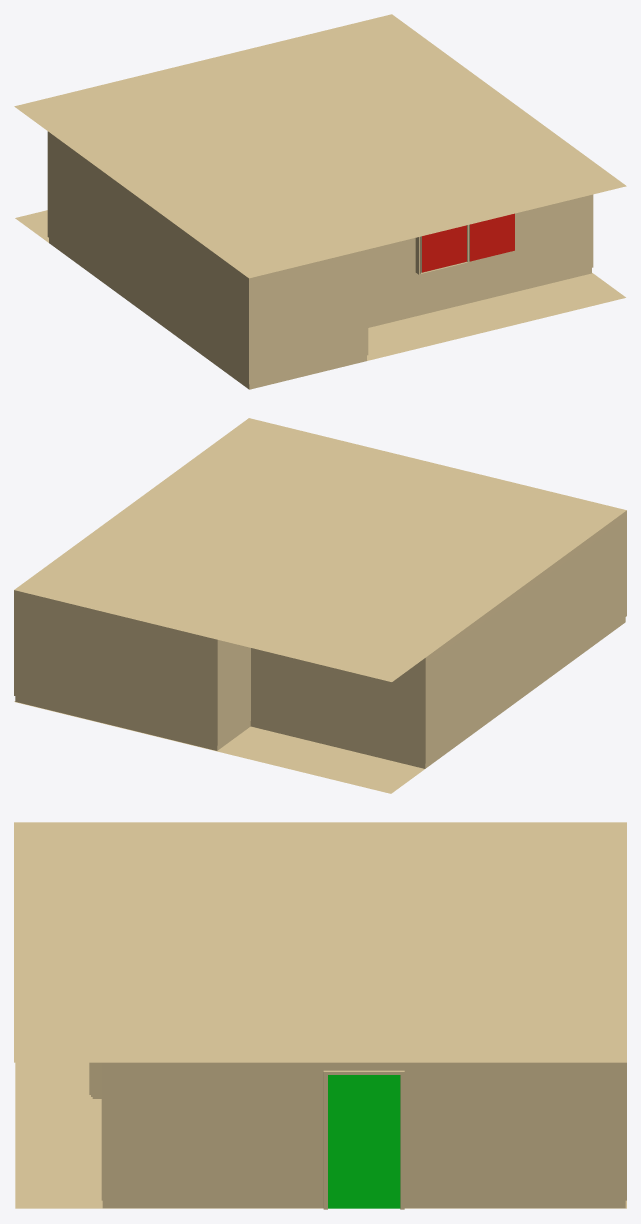
The model's file is room_jonar.glb.
The picture shows the model from 3 angles, top to bottom: view 1: azimuth 30°, elevation 25°; view 2: azimuth 150°, elevation 25°; view 3: azimuth 270°, elevation 25°; orthographic projection. The views are drawn at different scales.
Visible parts, largest first — view 1: Cube; view 2: Cube; view 3: Cube.
Part boxes in pixels (left/top/right/bottom): Cube: left=14, top=14, right=626, bottom=389; Cube: left=14, top=418, right=626, bottom=793; Cube: left=14, top=822, right=626, bottom=1209.
Size of the model in its own units: 16.33 by 4.6 by 17.5.
